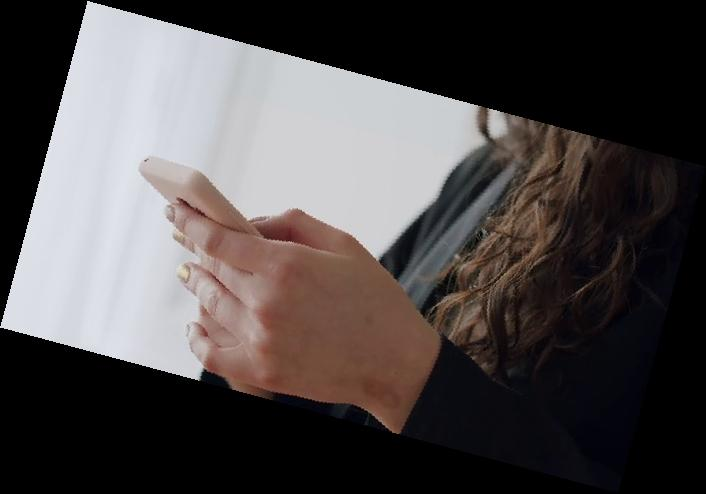phone: (135, 149, 270, 243)
